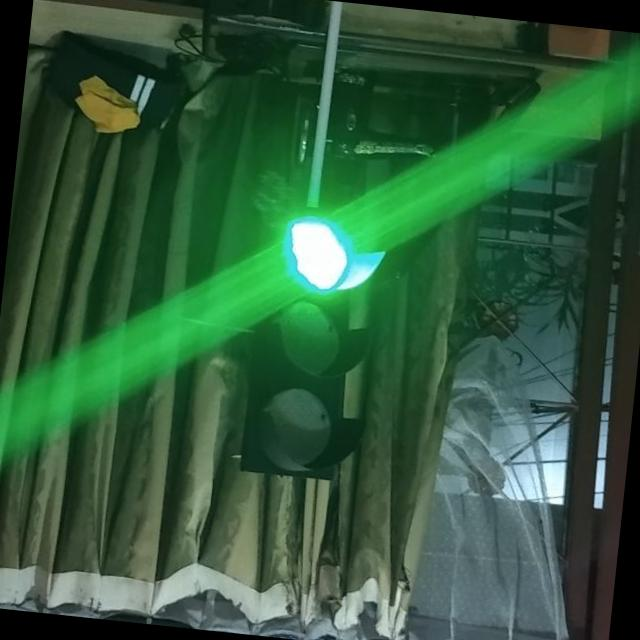green-lights: (278, 204, 354, 294)
